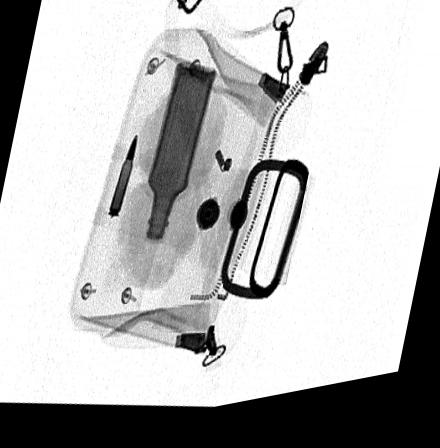Bullet: (106, 136, 136, 223)
